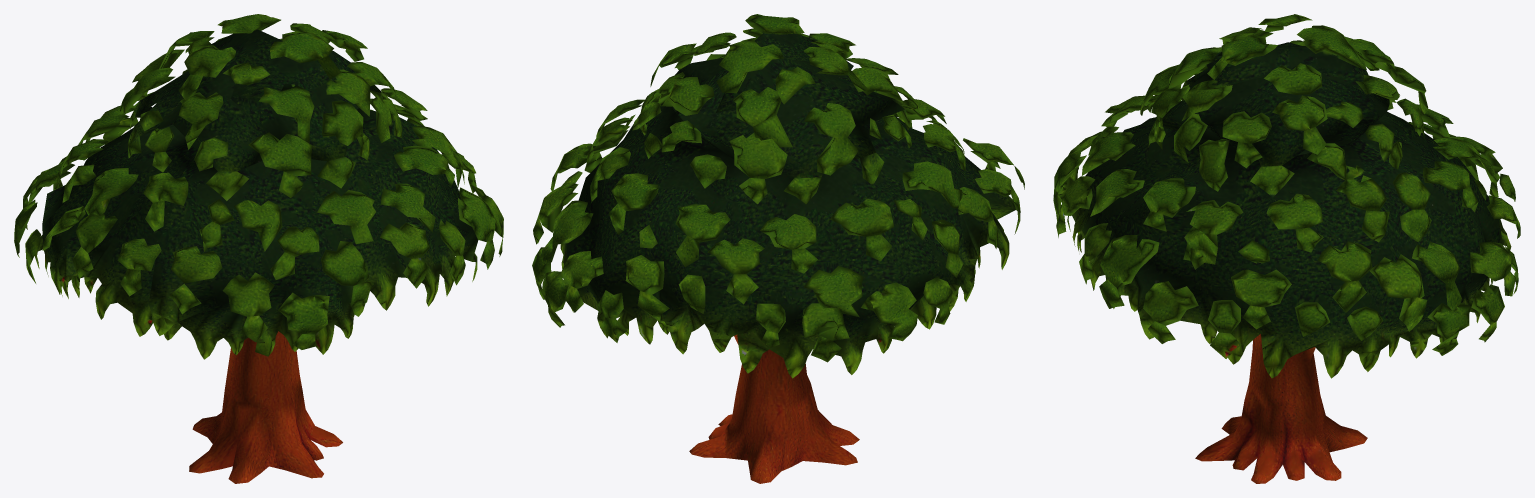
File: selected.glb
The picture shows the model from 3 angles, left to right: view 1: azimuth 30°, elevation 25°; view 2: azimuth 150°, elevation 25°; view 3: azimuth 270°, elevation 25°; orthographic projection.
Visible parts, largest first — view 1: tripo_node_83c51e9a-14d9-4da1-bdd8-2d104d6e1fab; view 2: tripo_node_83c51e9a-14d9-4da1-bdd8-2d104d6e1fab; view 3: tripo_node_83c51e9a-14d9-4da1-bdd8-2d104d6e1fab.
Boxes of the visible parts, x1=… form: tripo_node_83c51e9a-14d9-4da1-bdd8-2d104d6e1fab: x1=14, y1=14, x2=503, y2=483; tripo_node_83c51e9a-14d9-4da1-bdd8-2d104d6e1fab: x1=532, y1=14, x2=1024, y2=483; tripo_node_83c51e9a-14d9-4da1-bdd8-2d104d6e1fab: x1=1053, y1=14, x2=1520, y2=483.
Bounding box in the file's own units: 1 × 0.9883 × 1.
Materials: 1 (1 with a texture image).
